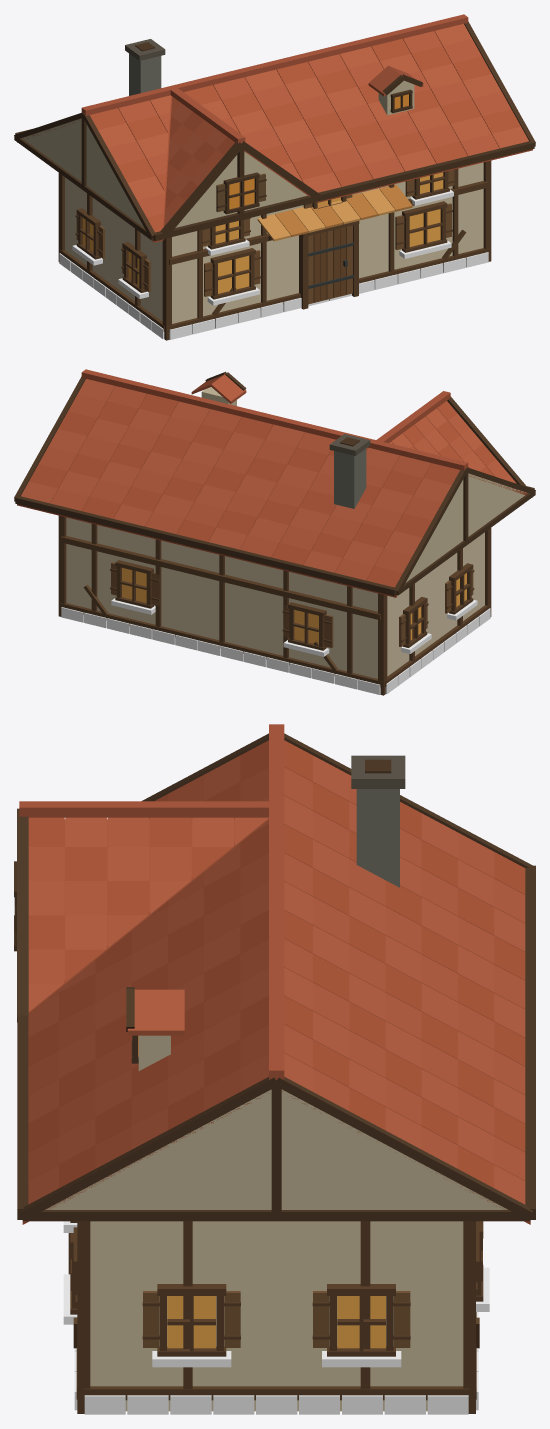
Rendered from inn.glb.
3 views of the same model, one above another, from view 1: azimuth 30°, elevation 25°; view 2: azimuth 150°, elevation 25°; view 3: azimuth 270°, elevation 25° (orthographic). The views are drawn at different scales.
Visible parts, largest first — view 1: inn; view 2: inn; view 3: inn.
Part boxes in pixels (<box>): inn: <box>14,14,535,340</box>; inn: <box>14,369,535,695</box>; inn: <box>14,724,535,1414</box>.
Bounding box in the file's own units: 12.15 × 6.66 × 7.71.
